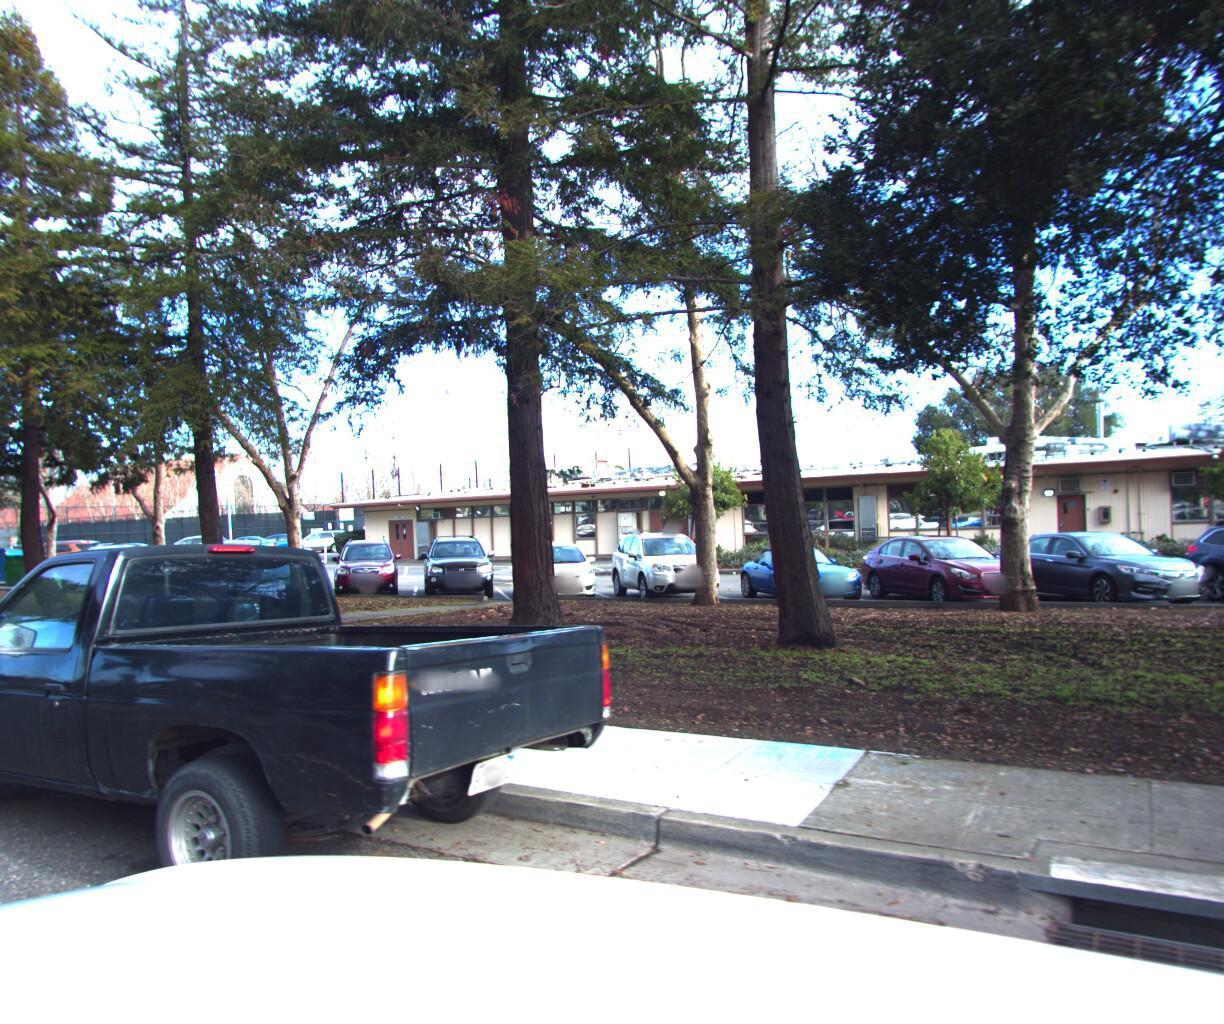car: (0, 518, 639, 1024)
